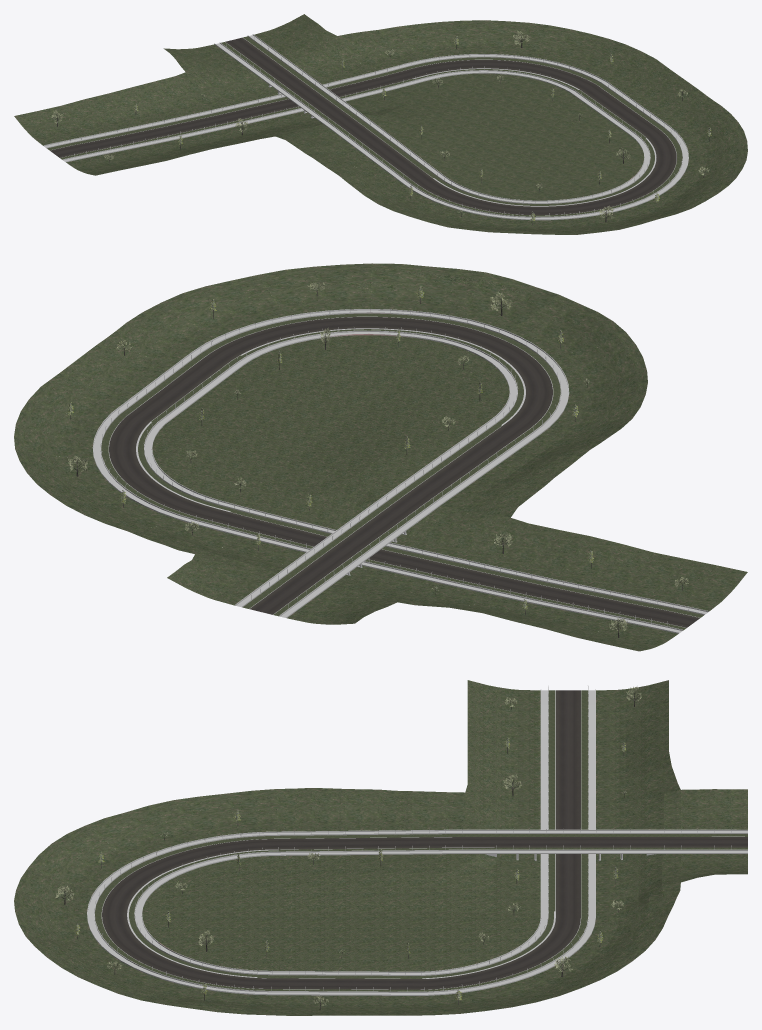
3 renders of one model, top to bottom at view 1: azimuth 30°, elevation 25°; view 2: azimuth 150°, elevation 25°; view 3: azimuth 270°, elevation 25°, orthographic. The views are drawn at different scales.
Parts seen in each view (by area): view 1: Grass, Road, Track, Trees; view 2: Grass, Road, Track, Trees; view 3: Grass, Road, Track, Trees.
Boxes of the visible parts, x1=… form: Grass: x1=14, y1=14, x2=747, y2=234; Road: x1=50, y1=37, x2=676, y2=215; Track: x1=43, y1=34, x2=688, y2=220; Trees: x1=51, y1=30, x2=711, y2=225; Grass: x1=14, y1=263, x2=747, y2=651; Road: x1=109, y1=317, x2=699, y2=627; Track: x1=92, y1=308, x2=708, y2=633; Trees: x1=68, y1=282, x2=688, y2=637; Grass: x1=14, y1=680, x2=747, y2=1015; Road: x1=102, y1=690, x2=747, y2=989; Track: x1=87, y1=686, x2=747, y2=995; Trees: x1=55, y1=686, x2=641, y2=1010.
Size of the model in its own units: 54220 by 2415 by 51083.
